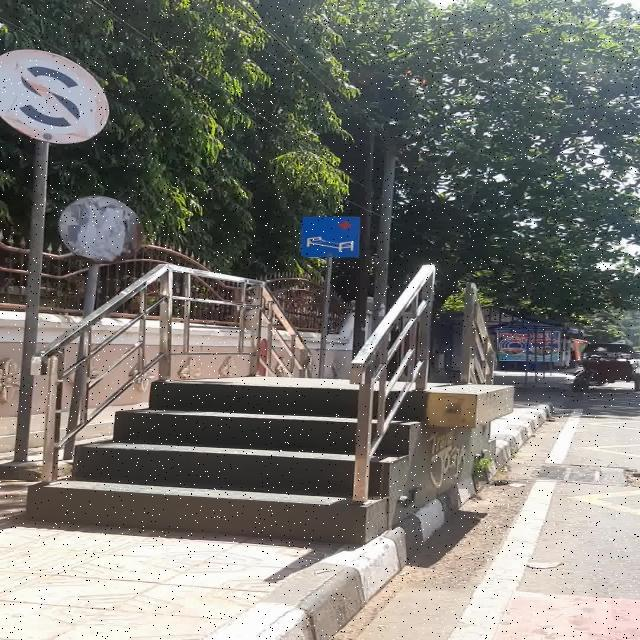Rumah Sakit: (300, 216, 359, 257)
